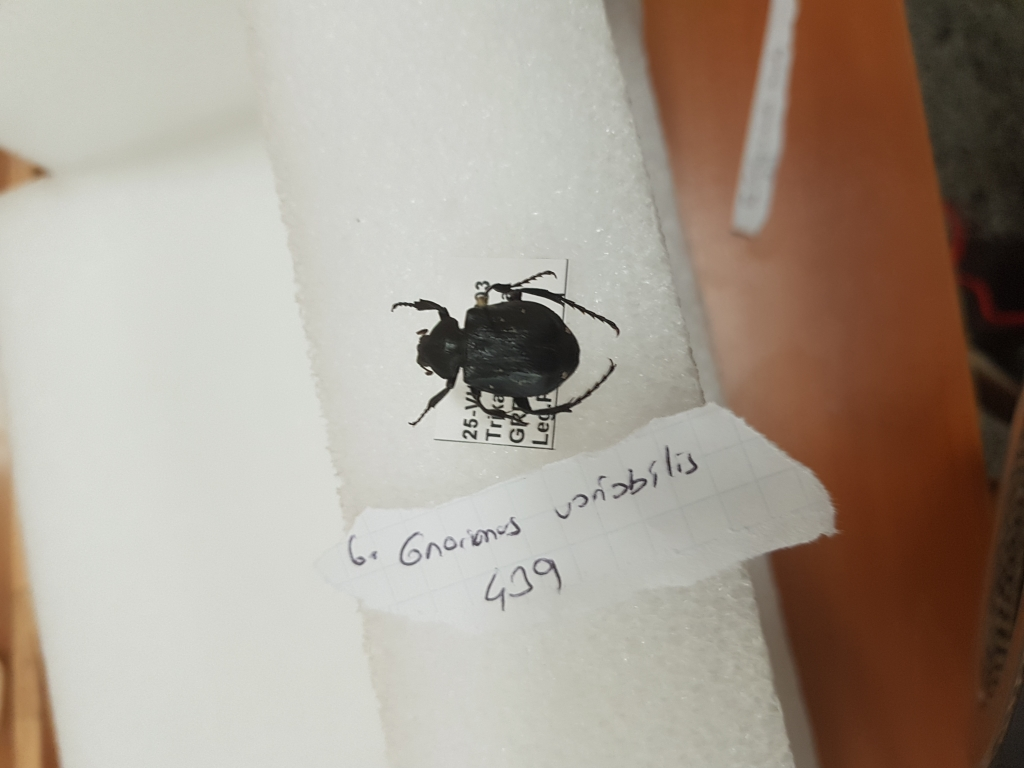Gnorimus_variabilis: (389, 266, 621, 435)
